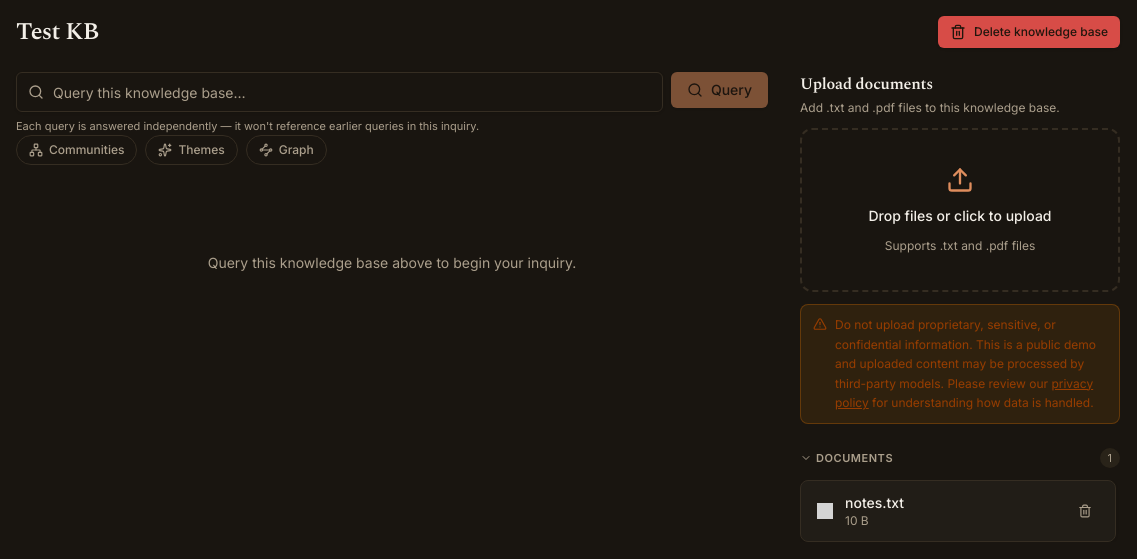
Test: KBDetailPage › explore section › communities panel › tells a KB with real documents but zero entities to check back later, not to upload
Click the button "Communities". click: x=77, y=150
box: x1=16 y1=134 x2=138 y2=164
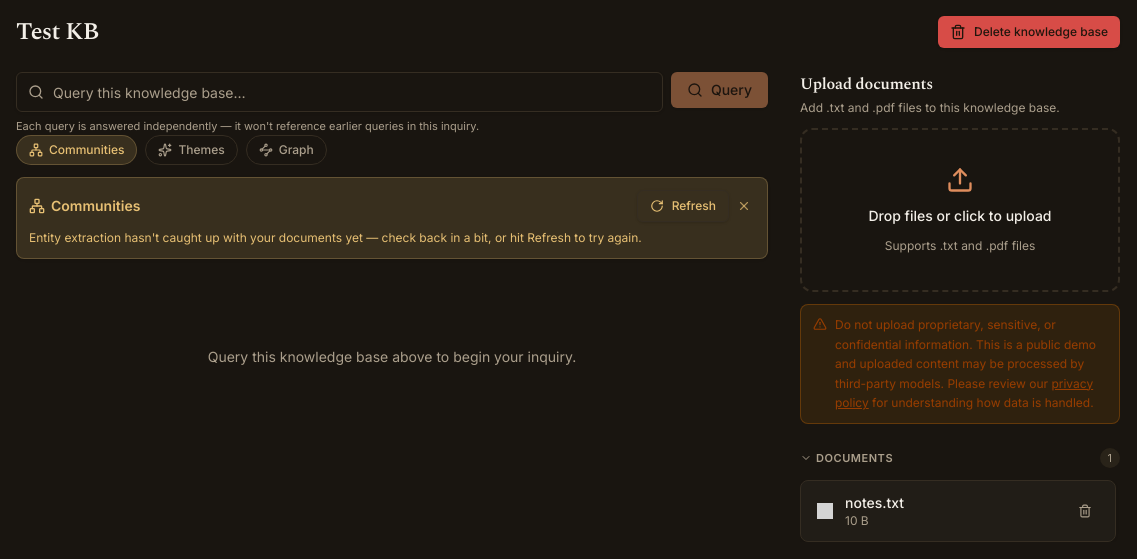
Expected: the text "hasn't caught up with your documents yet" is shown, x1=29 y1=230 x2=642 y2=244
Expected: the button "Refresh" is shown, x1=637 y1=190 x2=729 y2=222
